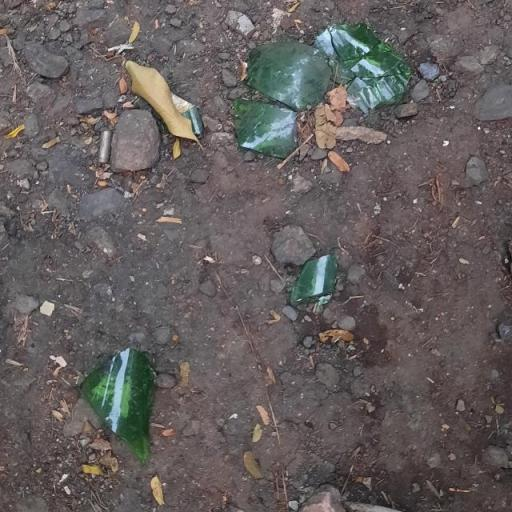glass: (64, 330, 164, 470), (242, 32, 342, 117), (330, 37, 416, 118), (221, 98, 311, 167), (300, 14, 378, 67), (276, 239, 338, 303)
